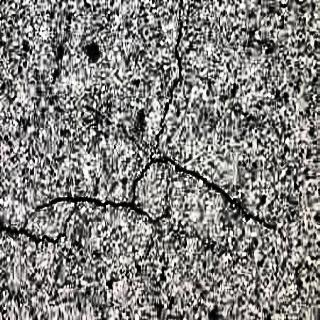crack: (0, 0, 286, 246), (142, 142, 294, 220), (170, 0, 192, 164)
